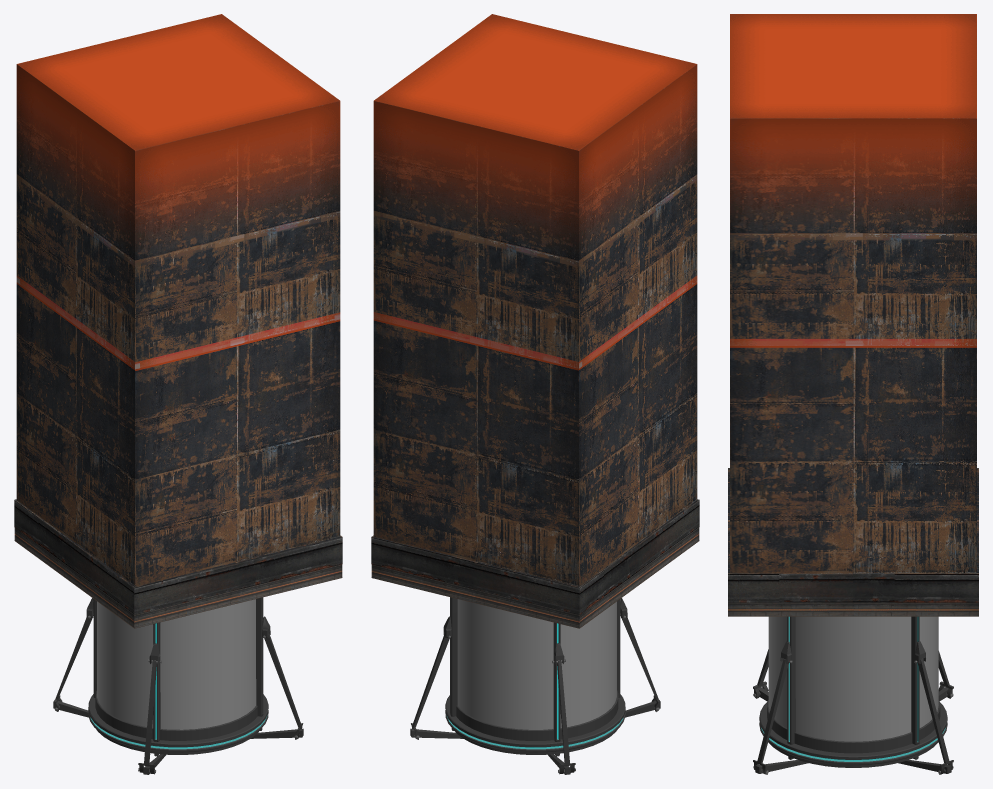
The model's file is dropper.obj.
3 views of the same model, side by side, from view 1: azimuth 30°, elevation 25°; view 2: azimuth 150°, elevation 25°; view 3: azimuth 270°, elevation 25° (orthographic). The views are drawn at different scales.
Parts seen in each view (by area): view 1: p1_dropper_4.mdl/p1_dropper_4.smd, box_dropper.mdl/Box_dropper_reference.smd.005; view 2: p1_dropper_4.mdl/p1_dropper_4.smd, box_dropper.mdl/Box_dropper_reference.smd.005; view 3: p1_dropper_4.mdl/p1_dropper_4.smd, box_dropper.mdl/Box_dropper_reference.smd.005.
Part boxes in pixels (x1=…): p1_dropper_4.mdl/p1_dropper_4.smd: x1=14, y1=14, x2=342, y2=628; box_dropper.mdl/Box_dropper_reference.smd.005: x1=53, y1=597, x2=303, y2=774; p1_dropper_4.mdl/p1_dropper_4.smd: x1=371, y1=14, x2=699, y2=628; box_dropper.mdl/Box_dropper_reference.smd.005: x1=410, y1=597, x2=660, y2=774; p1_dropper_4.mdl/p1_dropper_4.smd: x1=728, y1=14, x2=978, y2=616; box_dropper.mdl/Box_dropper_reference.smd.005: x1=753, y1=616, x2=953, y2=774.
Bounding box in the file's own units: 2 × 6.03 × 2.
